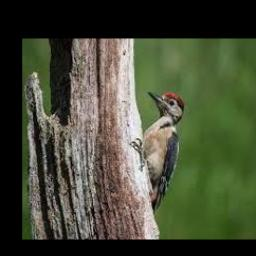Woodpecker: (142, 92, 184, 211)
